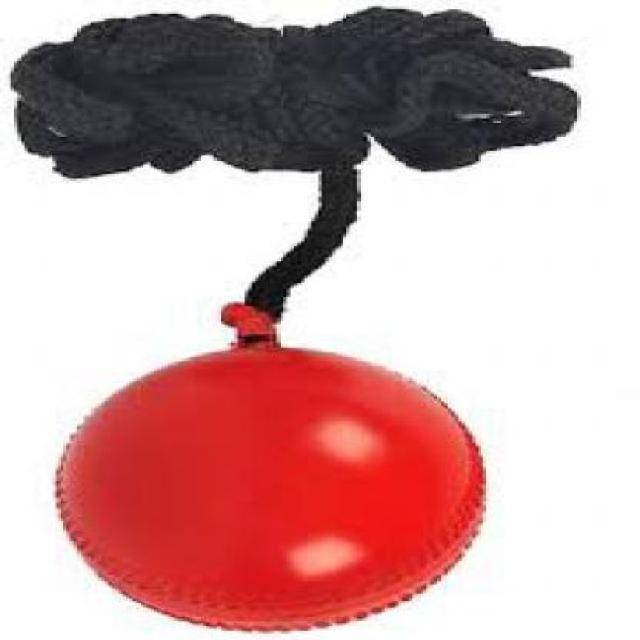ball: (40, 326, 540, 640)
